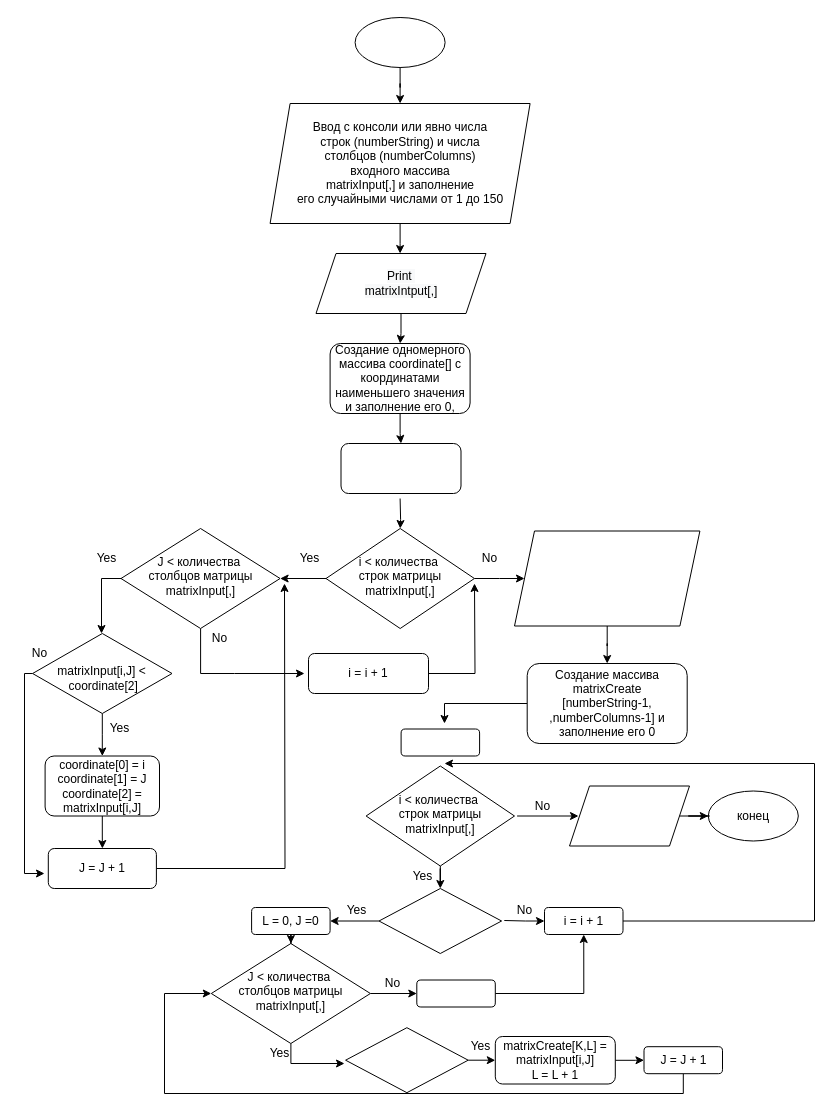
Image size: 840x1119. Some labels were removed from this diagram. Here are the shapes that lost their labels. From the top down, the centre of each, then its label:
At (399,42): "начало".
At (400,468): "coordinate[2] = matrixInput[0,0] i = 0, J = 0".
At (607,578): "Вывод координат coordinate[] наименьшего элемента массива matrixIntput".
At (440,742): "K = 0".
At (629,815): "Вывод массива matrixCreate[]".
At (440,921): "i =/= coordinate[0]".
At (455,993): "K = K + 1".
At (406,1060): "J =/= coordinate[1]".
